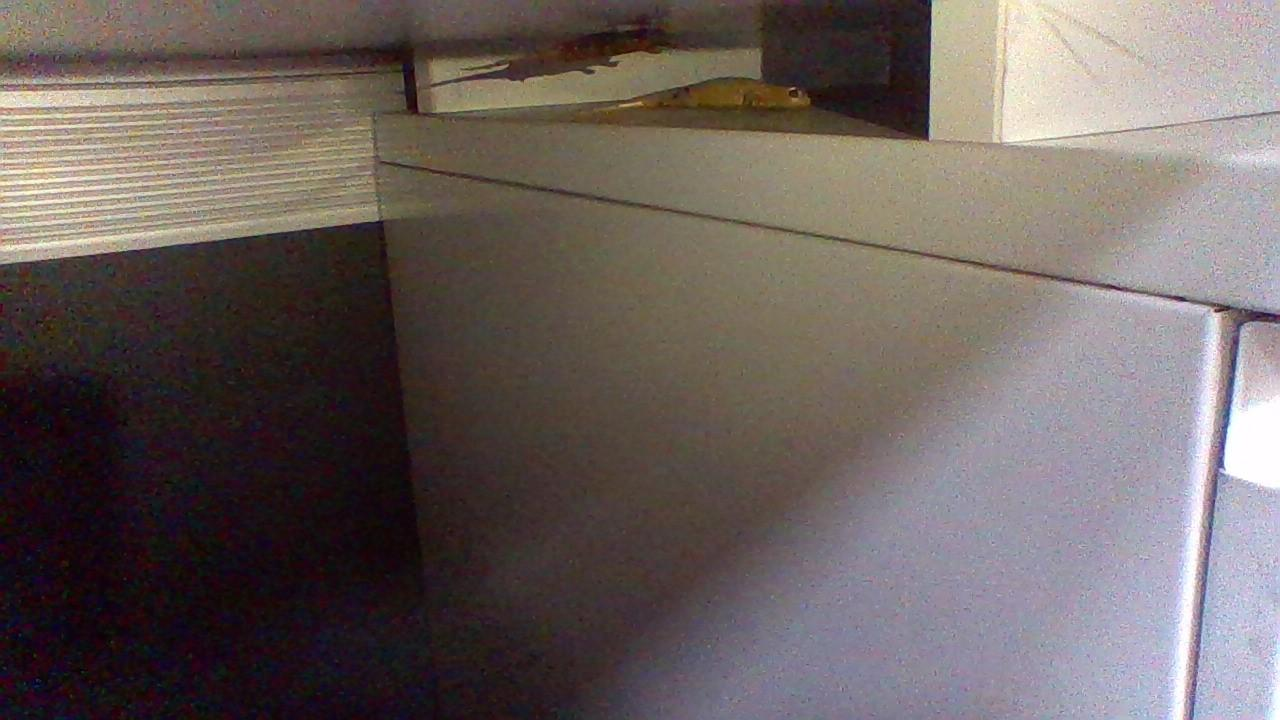cockroach: (373, 10, 684, 94)
lizard: (563, 75, 849, 130)
